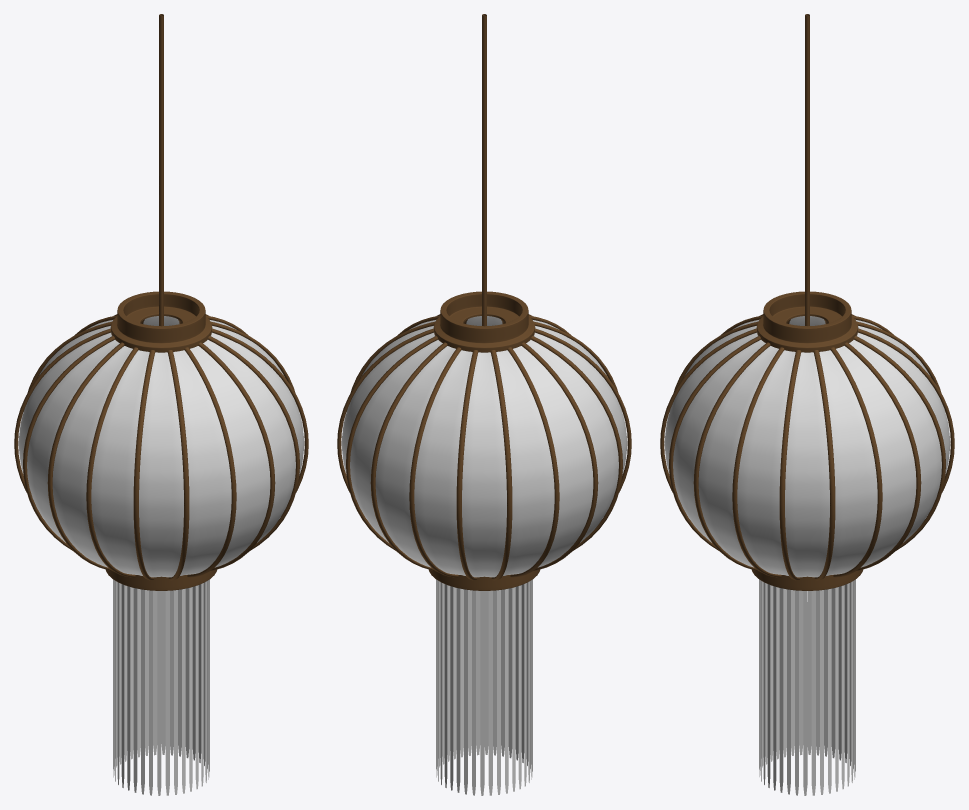
File: lantern.fbx
3 views of the same model, side by side, from view 1: azimuth 30°, elevation 25°; view 2: azimuth 150°, elevation 25°; view 3: azimuth 270°, elevation 25° (orthographic).
Parts seen in each view (by area): view 1: Main, Tassle, Main.001, Ring_top, Stick, Ring_bottom; view 2: Main, Tassle, Main.001, Ring_top, Stick, Ring_bottom; view 3: Main, Tassle, Main.001, Ring_top, Stick, Ring_bottom.
Part boxes in pixels (x1,y1,x2,y2): Main: (18,316,304,577); Tassle: (113,579,209,795); Main.001: (14,314,308,580); Ring_top: (110,291,212,352); Stick: (159,14,163,326); Ring_bottom: (106,569,216,590); Main: (341,316,627,577); Tassle: (436,579,532,795); Main.001: (337,314,631,580); Ring_top: (433,291,535,352); Stick: (482,14,486,326); Ring_bottom: (429,569,539,590); Main: (664,316,950,577); Tassle: (759,579,855,795); Main.001: (660,314,954,580); Ring_top: (756,291,858,352); Stick: (805,14,809,325); Ring_bottom: (752,569,862,590).
Bounding box in the file's own units: 201 × 580 × 204.
